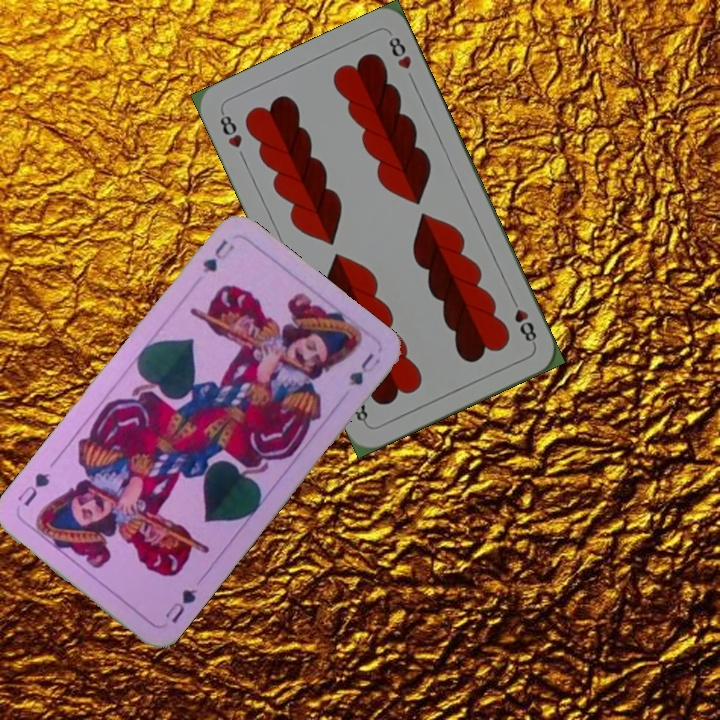GU: (198, 235, 238, 276), (161, 585, 200, 626)
H8: (507, 293, 540, 348), (216, 107, 245, 150)
